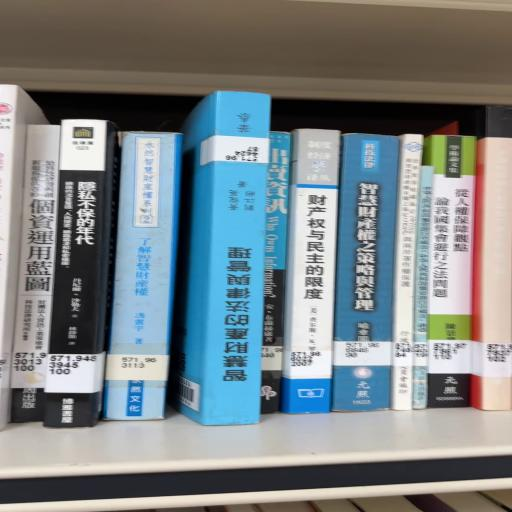reverse: (171, 93, 271, 426)
